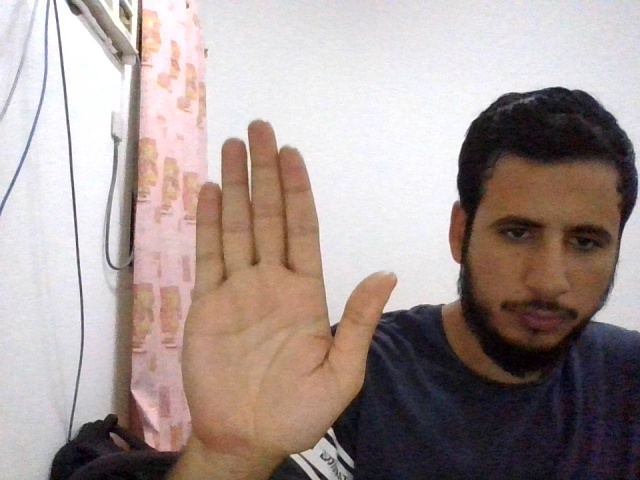Five: (181, 120, 396, 452)
